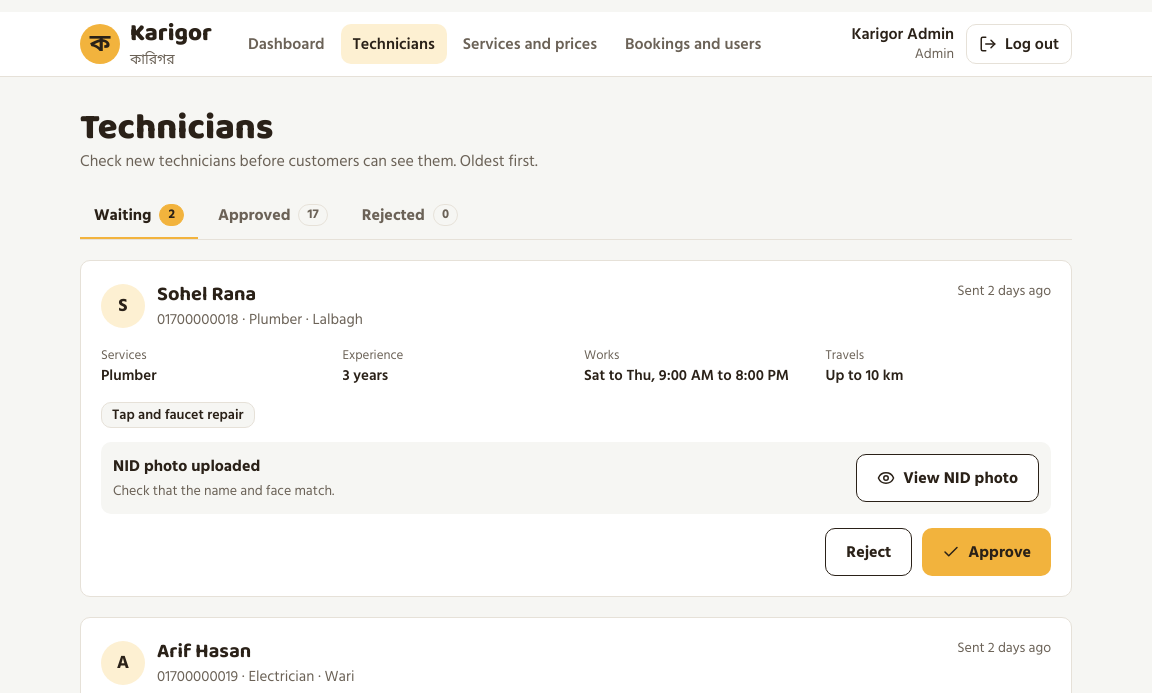
Scenario: waiting technicians › shows a server problem on the card
Click the button "Approve" at x=987, y=552, box [922,528,1051,576]
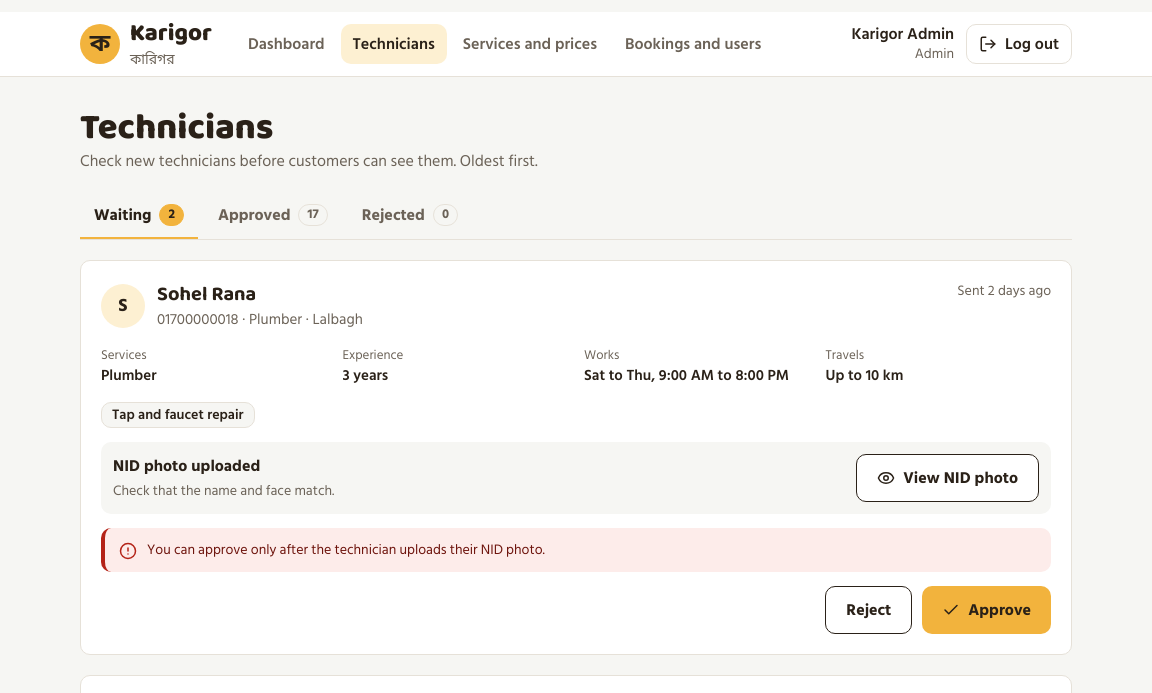
Result: the message shows "uploads their NID photo" at [147,538,545,560]
